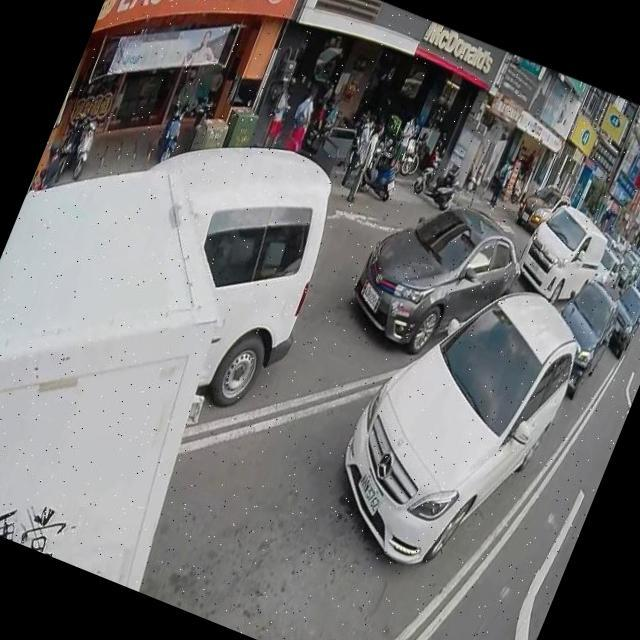person: (339, 118, 386, 205), (333, 111, 379, 189), (259, 80, 300, 152), (280, 86, 322, 154), (384, 111, 422, 176), (306, 77, 342, 133), (484, 156, 512, 208)
